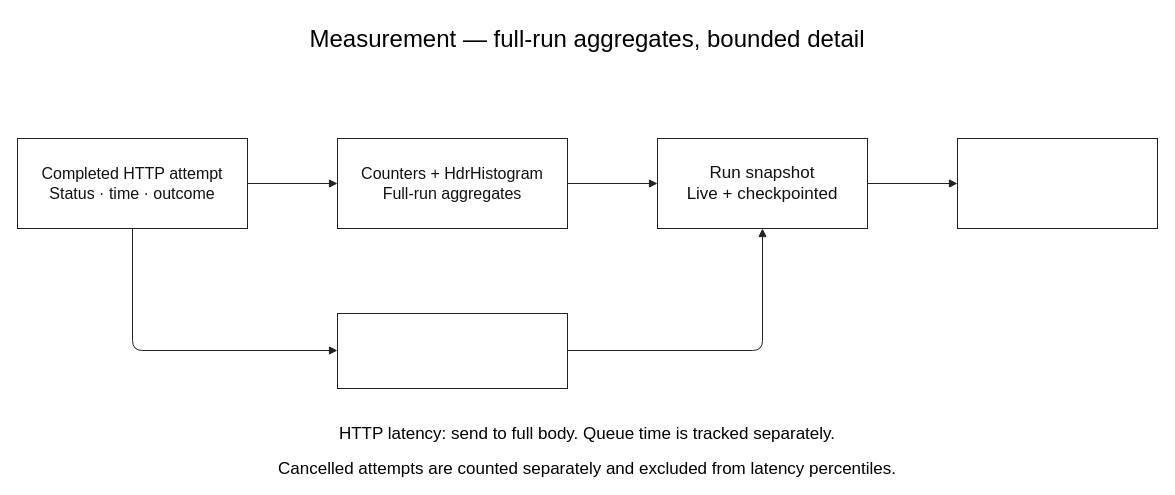
The diagram is 1175 pixels wide and 495 high, and some of its shapes have lost their labels. The centre of each missing label's shape, as x and y in pixels:
"Angular results History + comparison" belongs at (x=1057, y=183).
"Recent completions Ring: last 200 samples" belongs at (x=452, y=350).
